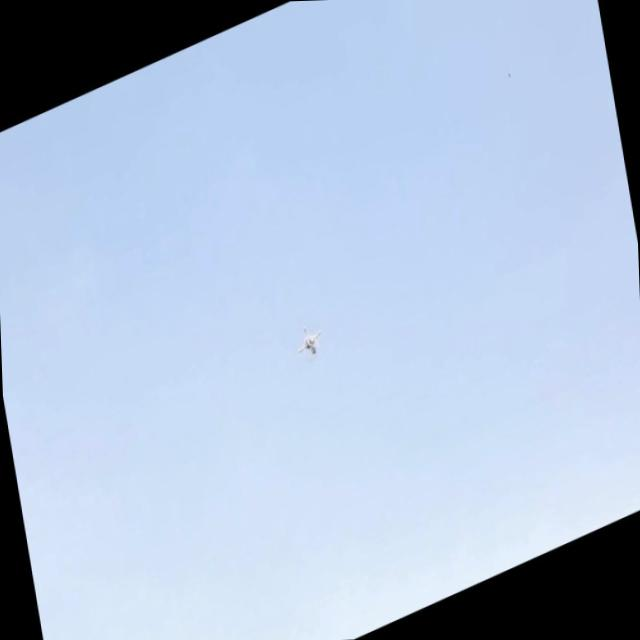drone: (291, 312, 324, 363)
